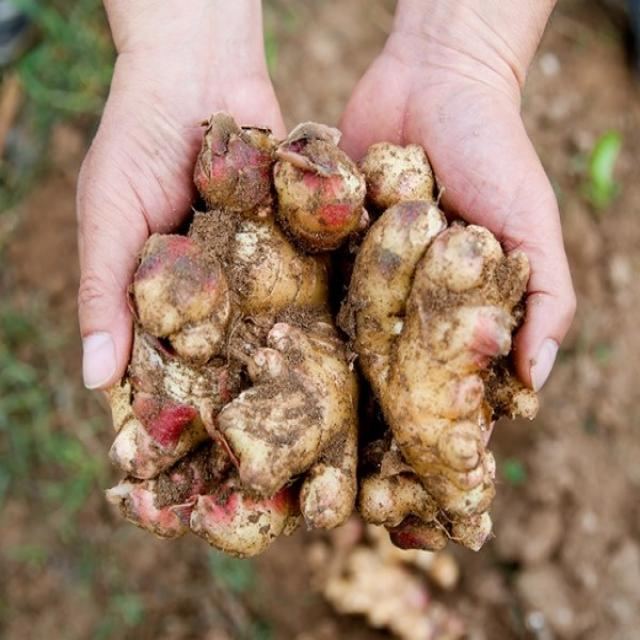ginger: (104, 130, 529, 541)
